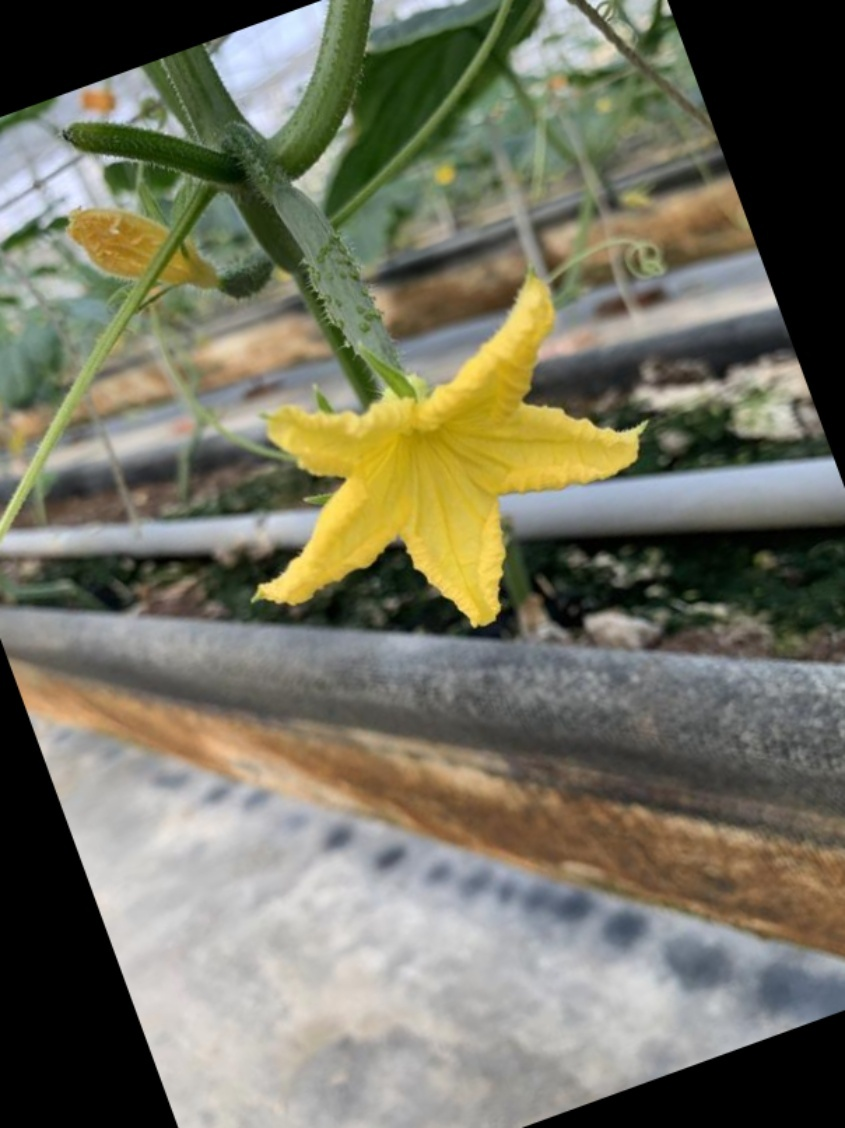flowering: (160, 156, 652, 633)
